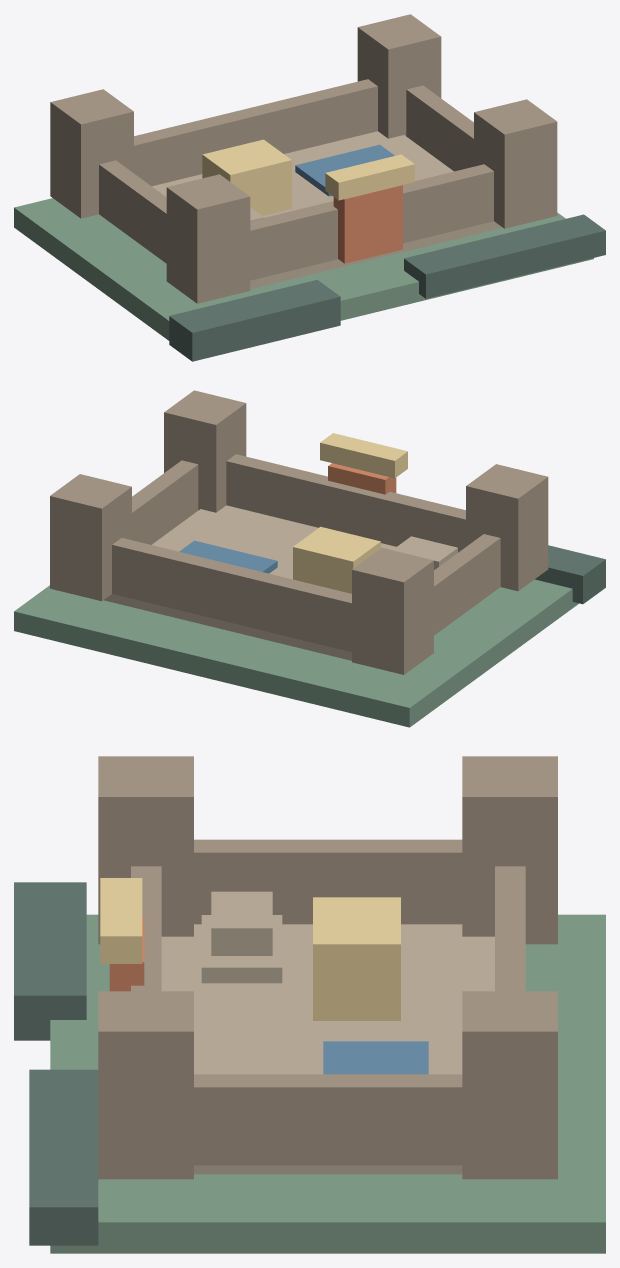
The model's file is rajgad-fort.gltf.
3 views of the same model, one above another, from view 1: azimuth 30°, elevation 25°; view 2: azimuth 150°, elevation 25°; view 3: azimuth 270°, elevation 25° (orthographic). The views are drawn at different scales.
Visible parts, largest first — view 1: terrain-base, rear-wall, front-wall, south-west-bastion, sahyadri-ridge-right, south-east-bastion, sahyadri-ridge-left, north-west-bastion, north-east-bastion, main-courtyard, left-wall, inner-shrine (+4 smaller); view 2: terrain-base, rear-wall, front-wall, north-west-bastion, north-east-bastion, main-courtyard, south-west-bastion, south-east-bastion, left-wall, right-wall, inner-shrine, gate-arch (+4 smaller); view 3: terrain-base, main-courtyard, right-wall, left-wall, north-east-bastion, south-east-bastion, north-west-bastion, south-west-bastion, sahyadri-ridge-right, inner-shrine, sahyadri-ridge-left, lookout-step-2 (+6 smaller).
Part boxes in pixels (x1,y1,x2,y2): terrain-base: (14,198,593,340); rear-wall: (134,79,377,186); front-wall: (250,164,493,280); south-west-bastion: (166,174,250,303); sahyadri-ridge-right: (404,214,605,298); south-east-bastion: (474,99,557,228); sahyadri-ridge-left: (169,279,340,361); north-west-bastion: (50,89,133,218); north-east-bastion: (357,14,441,138); main-courtyard: (152,131,502,289); left-wall: (99,160,166,263); inner-shrine: (202,139,291,215); terrain-base: (14,579,578,727); rear-wall: (112,538,351,652); front-wall: (226,454,465,552); north-west-bastion: (352,547,433,674); north-east-bastion: (50,474,131,601); main-courtyard: (104,505,396,660); south-west-bastion: (466,464,548,591); south-east-bastion: (164,390,246,512); left-wall: (434,534,500,635); right-wall: (132,460,198,544); inner-shrine: (293,526,380,593); gate-arch: (320,433,407,478); terrain-base: (50,914,605,1253); main-courtyard: (161,924,494,1174); right-wall: (194,1074,462,1165); left-wall: (194,839,462,924); north-east-bastion: (462,991,557,1179); south-east-bastion: (98,991,193,1179); north-west-bastion: (462,756,557,944); south-west-bastion: (98,756,193,944); sahyadri-ridge-right: (29,1069,98,1245); inner-shrine: (313,897,400,1020); sahyadri-ridge-left: (14,882,86,1040); lookout-step-2: (211,891,272,955).
Bounding box in the file's own units: 3.95 × 1.19 × 3.09.
